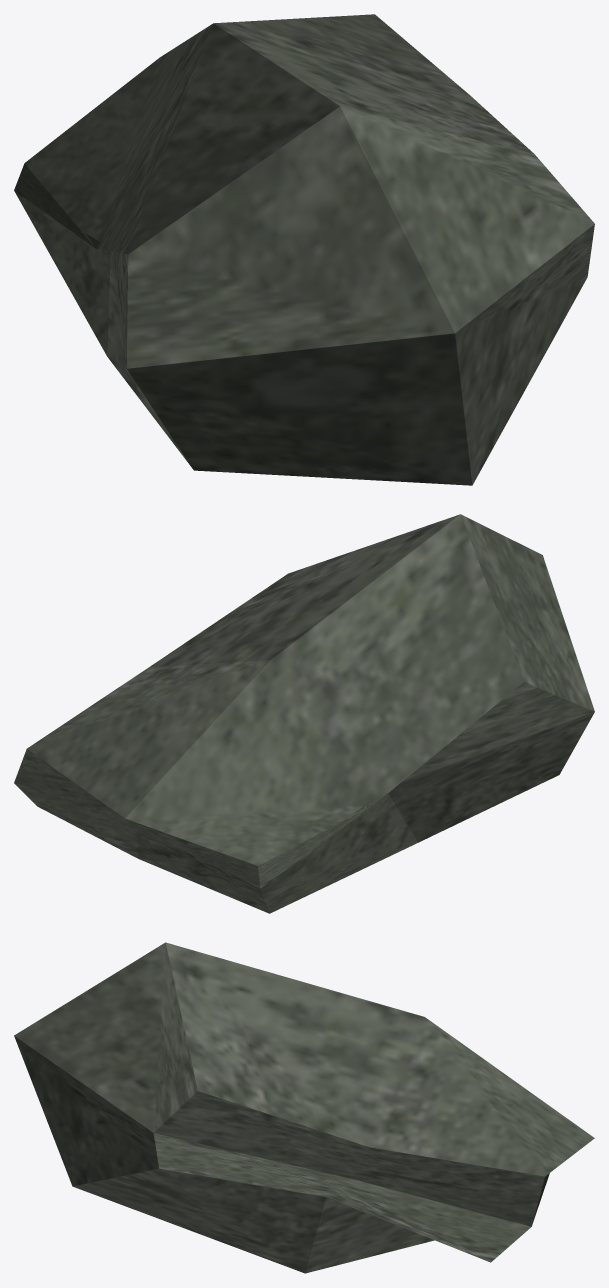
File: boulder4.fbx
3 renders of one model, top to bottom at view 1: azimuth 30°, elevation 25°; view 2: azimuth 150°, elevation 25°; view 3: azimuth 270°, elevation 25°, orthographic. The views are drawn at different scales.
Visible parts, largest first — view 1: Cube; view 2: Cube; view 3: Cube.
Part boxes in pixels (x1,y1,x2,y2): Cube: [14, 14, 594, 485]; Cube: [14, 514, 594, 913]; Cube: [14, 942, 594, 1273].
Size of the model in its own units: 91.35 by 68.51 by 126.
